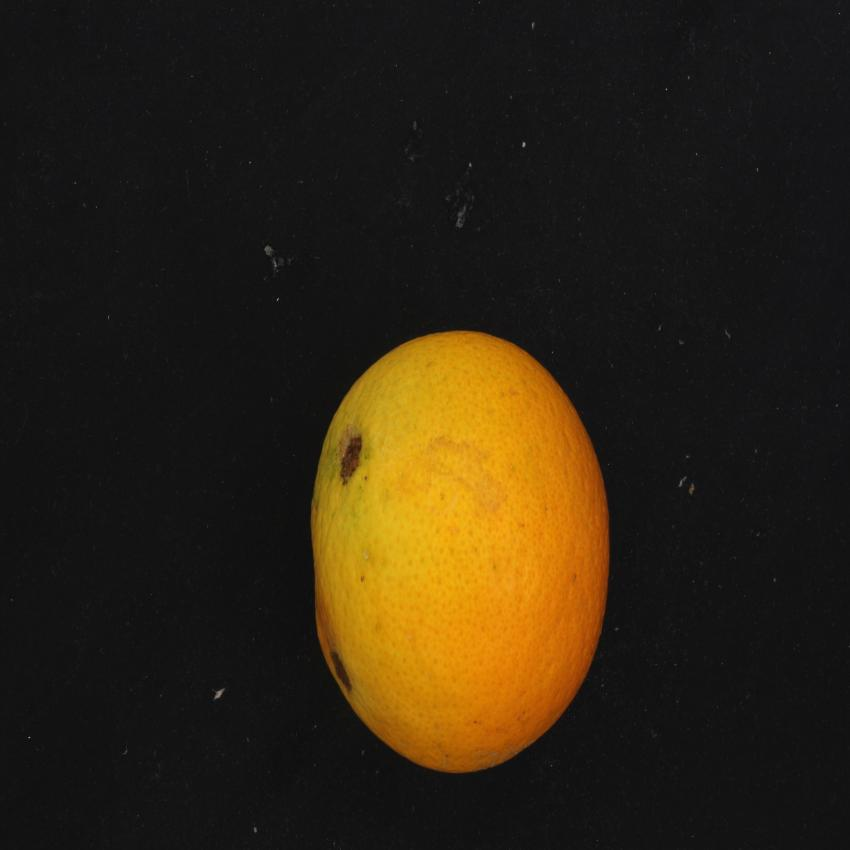Buen estado: (285, 315, 621, 789)
